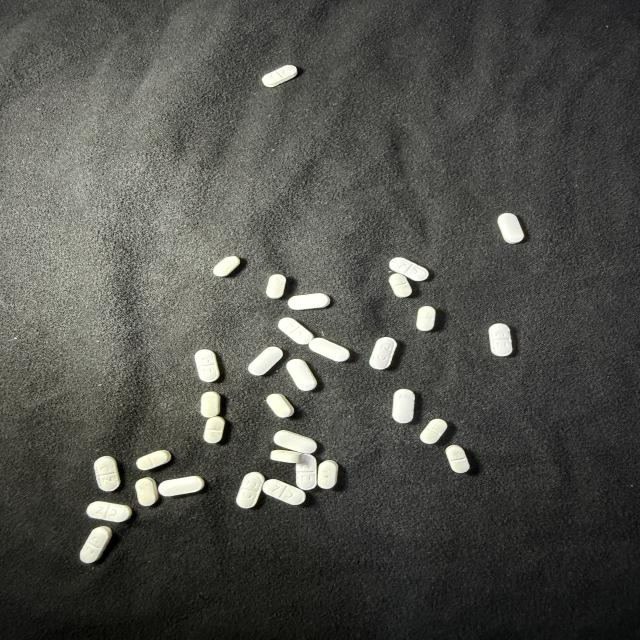pill: (80, 526, 112, 564), (236, 471, 265, 509), (263, 479, 305, 505), (158, 475, 205, 497), (286, 358, 317, 391), (274, 430, 317, 453), (248, 347, 283, 375), (309, 338, 349, 361), (94, 456, 120, 491), (278, 318, 313, 344), (87, 502, 132, 522), (389, 258, 428, 281), (370, 337, 397, 369), (296, 454, 318, 490), (262, 65, 298, 87), (392, 389, 415, 423), (498, 213, 524, 243), (195, 350, 219, 382), (489, 324, 512, 356), (137, 450, 171, 470), (420, 419, 447, 444), (446, 445, 469, 473), (266, 394, 294, 417), (135, 478, 158, 506), (288, 294, 330, 309), (203, 416, 225, 443), (318, 460, 338, 489), (389, 273, 412, 297), (213, 256, 240, 276), (266, 274, 286, 299), (201, 392, 220, 417), (416, 306, 435, 331), (271, 450, 303, 463)
